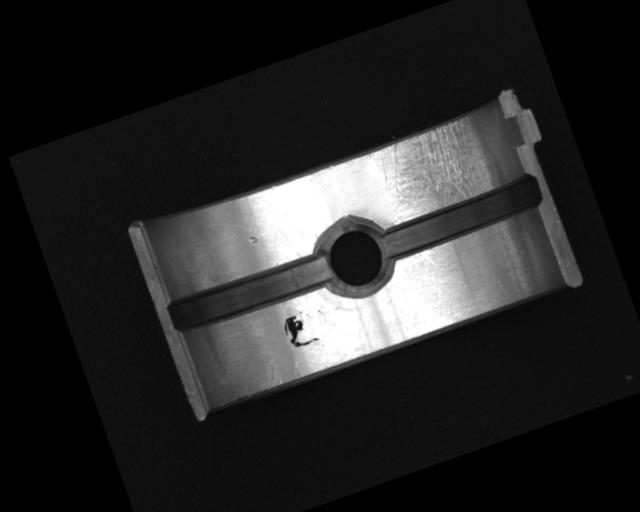blot: (277, 305, 322, 353)
bruise: (247, 234, 258, 245)
gap: (162, 244, 336, 340), (375, 172, 548, 262)
hole: (307, 206, 405, 307)
nick: (417, 247, 437, 269)
scratch: (365, 110, 506, 227)
